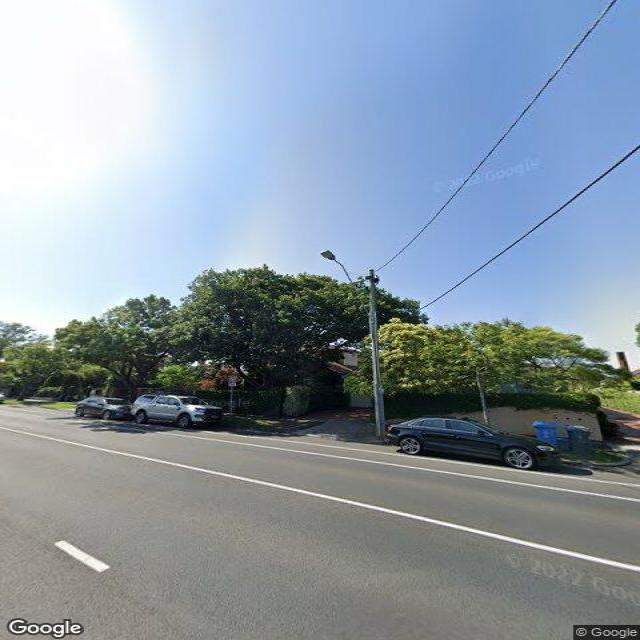streetlight: (319, 249, 370, 317)
timber-pole: (366, 268, 387, 442)
